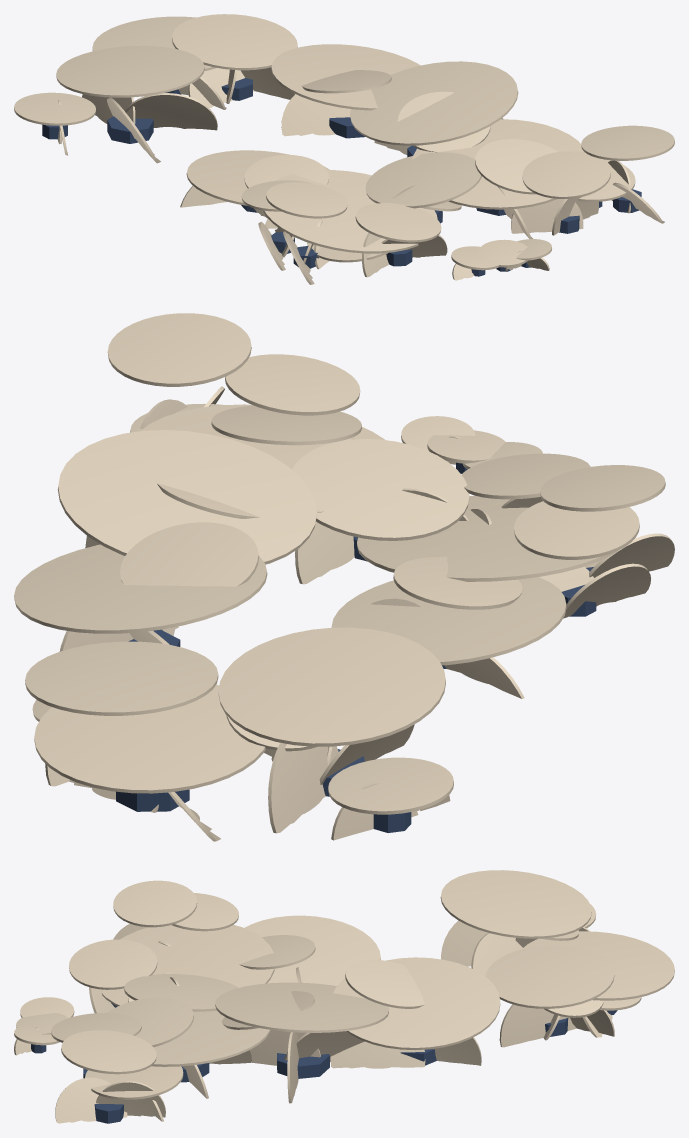
Rendered from doha-national-museum.detail.glb.
The picture shows the model from 3 angles, top to bottom: view 1: azimuth 30°, elevation 25°; view 2: azimuth 150°, elevation 25°; view 3: azimuth 270°, elevation 25°; orthographic projection. The views are drawn at different scales.
Visible parts, largest first — view 1: National Museum of Qatar; view 2: National Museum of Qatar; view 3: National Museum of Qatar.
Part boxes in pixels (x1,y1,x2,y2): National Museum of Qatar: (14,14,674,284); National Museum of Qatar: (14,313,674,841); National Museum of Qatar: (14,870,674,1123).
Bounding box in the file's own units: 243 × 38.84 × 315.
